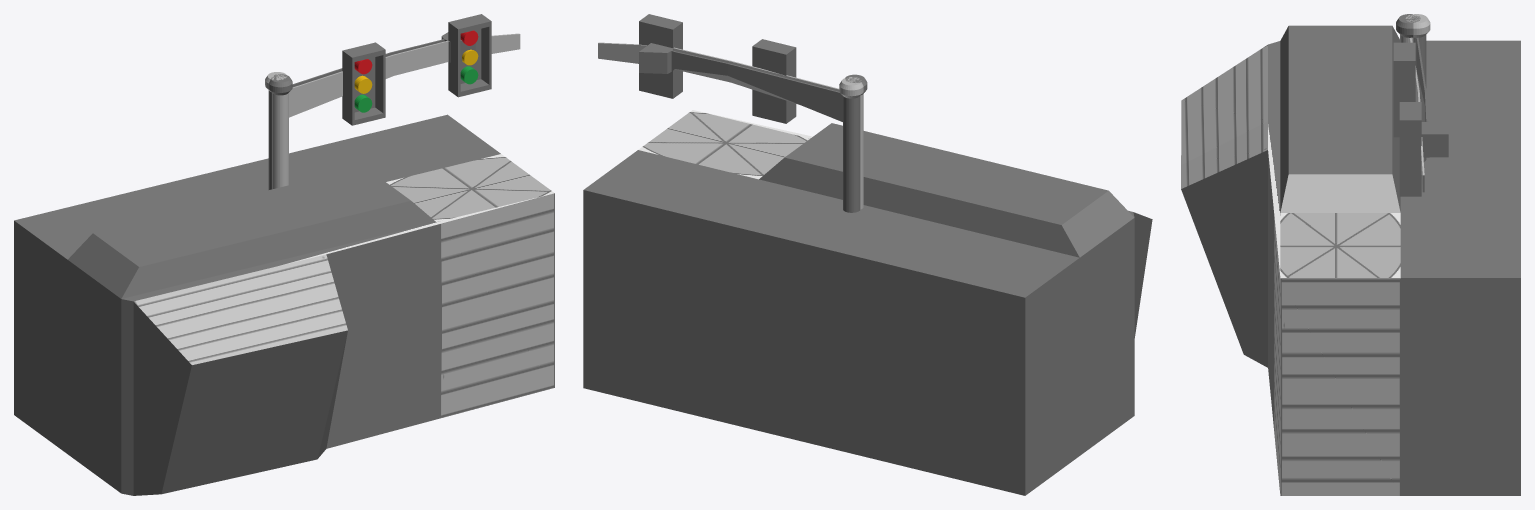
File: worldItems.fbx
3 views of the same model, side by side, from view 1: azimuth 30°, elevation 25°; view 2: azimuth 150°, elevation 25°; view 3: azimuth 270°, elevation 25° (orthographic). The views are drawn at different scales.
Parts seen in each view (by area): view 1: Cube, Cylinder, Cylinder.001; view 2: Cube, Cylinder, Cylinder.001; view 3: Cube, Cylinder, Cylinder.001.
Part boxes in pixels (x1,y1,x2,y2): Cube: (14, 114, 554, 495); Cylinder: (268, 14, 520, 189); Cylinder.001: (265, 32, 475, 189); Cube: (583, 110, 1152, 495); Cylinder: (598, 14, 867, 209); Cylinder.001: (639, 43, 863, 212); Cube: (1181, 25, 1520, 495); Cylinder: (1393, 14, 1424, 196); Cylinder.001: (1405, 14, 1448, 161).
Size of the model in its own units: 914 by 657 by 519.
